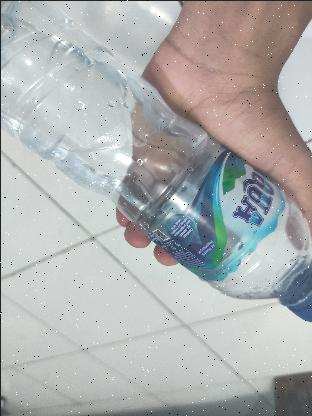Plastic Bottle: (0, 0, 312, 340)
